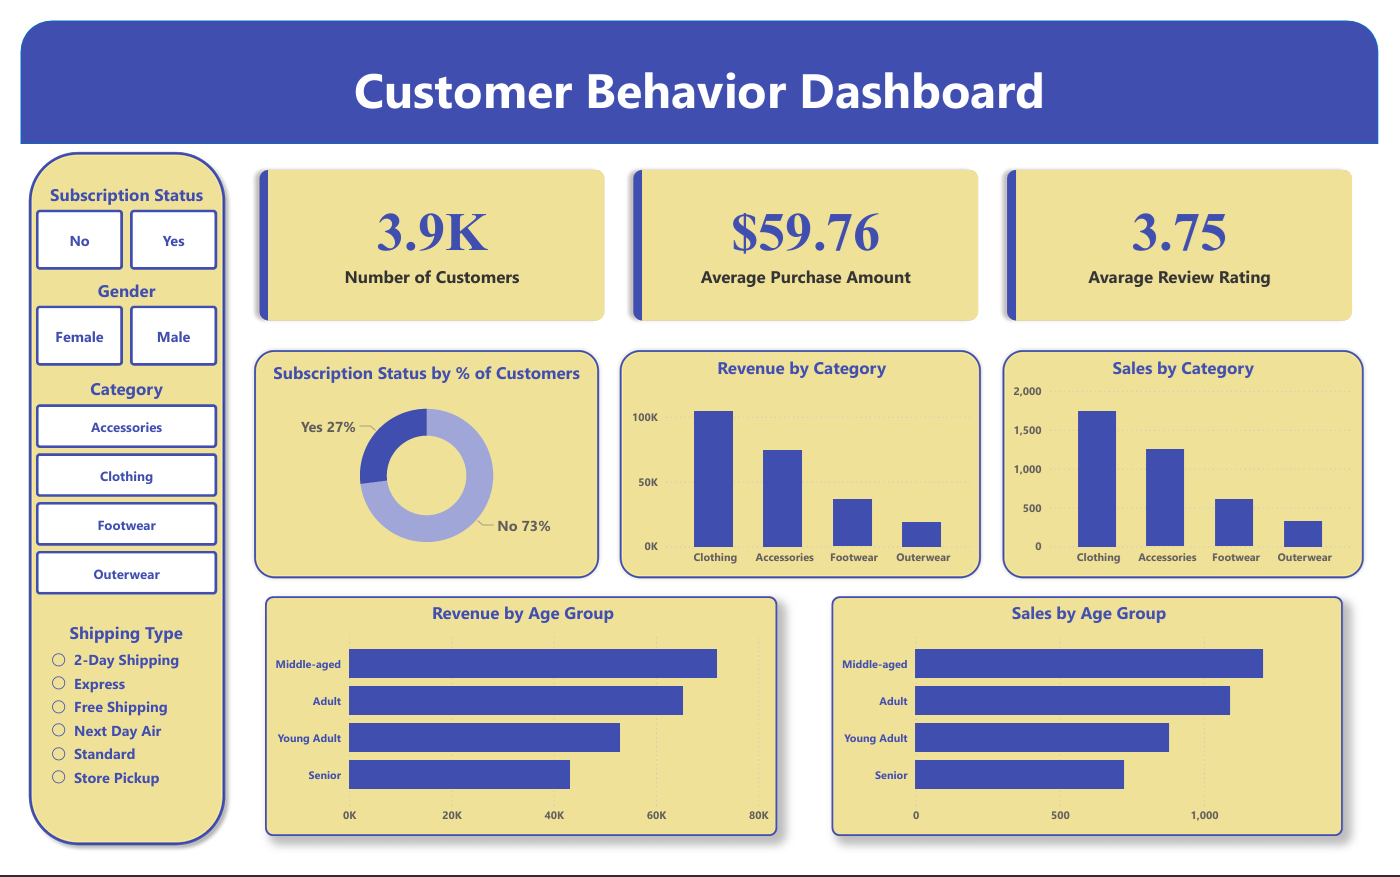

The page's visual inventory and layout, read from the dashboard file:
{"tool":"powerbi","page":{"name":"Page 1","canvas":[1500,920],"ordinal":0},"visuals":[{"type":"cardVisual","fields":{"Data":["public customer_shopping_behavior.Number of Customers","public customer_shopping_behavior.Average Purchase Amount","public customer_shopping_behavior.Avarage Review Rating"]},"box":[235,135.8,1265,224.5],"z":0},{"type":"shape","box":[253.6,360.3,389.1,260.2],"z":0,"group":"g1"},{"type":"shape","box":[0,0,1500,135.8],"z":1000,"group":"g2"},{"type":"group","id":"g1","title":"Group 1","box":[253.6,360.3,389,259.8],"z":1000},{"type":"shape","box":[657.7,360.3,407.4,260],"z":1000,"group":"g3"},{"type":"donutChart","title":"Subscription Status by % of Customers","fields":{"Y":["public customer_shopping_behavior.Number of Customers"],"Category":["public customer_shopping_behavior.subscription_status"]},"box":[271.1,376.4,354.2,228.1],"z":1000,"group":"g1"},{"type":"group","id":"g2","title":"Group 2","box":[0,0,1500,135.8],"z":2000},{"type":"textbox","box":[0,33.9,1500,91.4],"z":2000,"group":"g2"},{"type":"group","id":"g3","title":"Group 3","box":[657.7,360.3,407.3,259.8],"z":3000},{"type":"group","id":"g4","title":"Group 4","box":[1080.6,360.3,407.3,259.8],"z":4000},{"type":"shape","box":[1080.6,360.3,407.3,259.8],"z":4000,"group":"g4"},{"type":"shape","box":[0,135.8,235,784.6],"z":5000},{"type":"clusteredColumnChart","title":"Revenue by Category","fields":{"Y":["Sum(public customer_shopping_behavior.purchase_amount_usd)"],"Category":["public customer_shopping_behavior.category"]},"box":[669.8,370.7,385.6,240.2],"z":5000,"group":"g3"},{"type":"clusteredColumnChart","title":"Sales by Category","fields":{"Y":["Count(public customer_shopping_behavior.customer_id)"],"Category":["public customer_shopping_behavior.category"]},"box":[1091.5,370.7,385.6,240.2],"z":5000,"group":"g4"},{"type":"advancedSlicerVisual","title":"Subscription Status","fields":{"Values":["public customer_shopping_behavior.subscription_status"]},"box":[11.7,178.9,210.2,101.8],"z":6000},{"type":"advancedSlicerVisual","title":"Gender","fields":{"Values":["public customer_shopping_behavior.gender"]},"box":[11.7,284.6,210.2,101.8],"z":7000},{"type":"advancedSlicerVisual","title":"Category","fields":{"Values":["public customer_shopping_behavior.category"]},"box":[11.7,394.3,210.2,245.4],"z":8000},{"type":"listSlicer","title":"Shipping Type","fields":{"Values":["public customer_shopping_behavior.shipping_type"]},"box":[27.4,663.2,178.9,242.8],"z":9000},{"type":"clusteredBarChart","title":"Revenue by Age Group","fields":{"Y":["Sum(public customer_shopping_behavior.purchase_amount_usd)"],"Category":["public customer_shopping_behavior.age_group"]},"box":[270.2,635.8,565.3,265],"z":10000},{"type":"clusteredBarChart","title":"Sales by Age Group","fields":{"Category":["public customer_shopping_behavior.age_group"],"Y":["Count(public customer_shopping_behavior.customer_id)"]},"box":[895.6,635.8,565.3,265],"z":11000}]}

Visuals, with their boxes in screenshot pixels (x1, y1, x2, y2), scaled from the page's 1500x920 canvas onto the 1400x877 screenshot:
cardVisual - public customer_shopping_behavior.Number of Customers x public customer_shopping_behavior.Average Purchase Amount: pyautogui.locateOnScreen(219, 129, 1399, 343)
shape: pyautogui.locateOnScreen(237, 343, 600, 591)
shape: pyautogui.locateOnScreen(0, 0, 1399, 129)
"Group 1" group: pyautogui.locateOnScreen(237, 343, 600, 591)
shape: pyautogui.locateOnScreen(614, 343, 994, 591)
"Subscription Status by % of Customers" donutChart: pyautogui.locateOnScreen(253, 359, 584, 576)
"Group 2" group: pyautogui.locateOnScreen(0, 0, 1399, 129)
textbox: pyautogui.locateOnScreen(0, 32, 1399, 119)
"Group 3" group: pyautogui.locateOnScreen(614, 343, 994, 591)
"Group 4" group: pyautogui.locateOnScreen(1009, 343, 1389, 591)
shape: pyautogui.locateOnScreen(1009, 343, 1389, 591)
shape: pyautogui.locateOnScreen(0, 129, 219, 876)
"Revenue by Category" clusteredColumnChart: pyautogui.locateOnScreen(625, 353, 985, 582)
"Sales by Category" clusteredColumnChart: pyautogui.locateOnScreen(1019, 353, 1379, 582)
"Subscription Status" advancedSlicerVisual: pyautogui.locateOnScreen(11, 171, 207, 268)
"Gender" advancedSlicerVisual: pyautogui.locateOnScreen(11, 271, 207, 368)
"Category" advancedSlicerVisual: pyautogui.locateOnScreen(11, 376, 207, 610)
"Shipping Type" listSlicer: pyautogui.locateOnScreen(26, 632, 193, 864)
"Revenue by Age Group" clusteredBarChart: pyautogui.locateOnScreen(252, 606, 780, 859)
"Sales by Age Group" clusteredBarChart: pyautogui.locateOnScreen(836, 606, 1364, 859)
